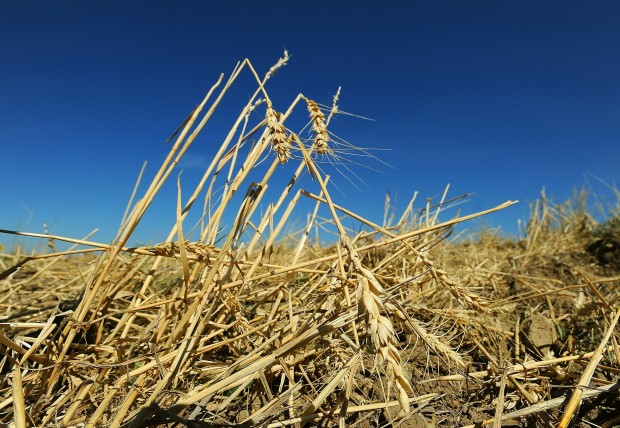damaged_wheat: (211, 62, 417, 290), (35, 269, 270, 428), (372, 310, 620, 410)
